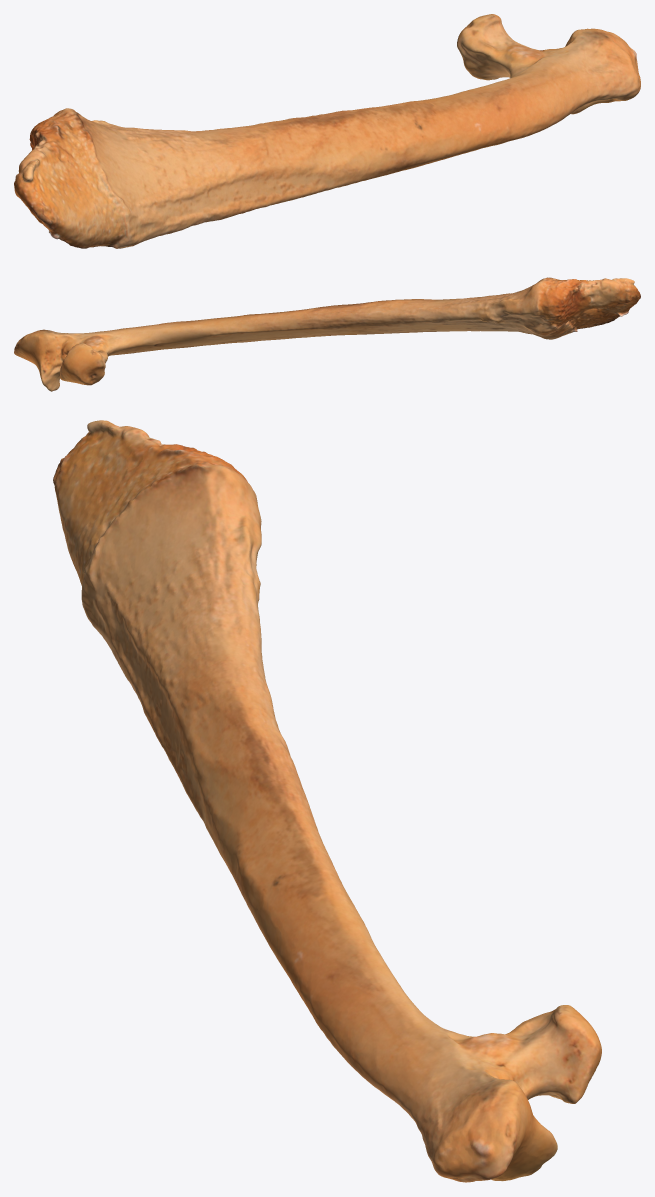
3 renders of one model, top to bottom at view 1: azimuth 30°, elevation 25°; view 2: azimuth 150°, elevation 25°; view 3: azimuth 270°, elevation 25°, orthographic. The views are drawn at different scales.
Visible parts, largest first — view 1: Node; view 2: Node; view 3: Node.
Part boxes in pixels (x1,y1,x2,y2): Node: (14, 14, 640, 248); Node: (14, 277, 640, 391); Node: (53, 420, 601, 1182).
Size of the model in its own units: 287 by 82.1 by 131.
1 material, 1 textured.
